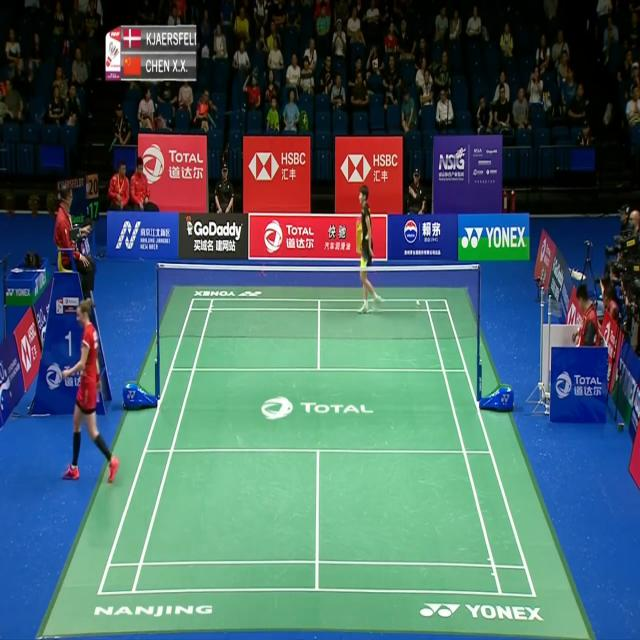Player1: (56, 284, 122, 497)
Player2: (353, 169, 387, 326)
